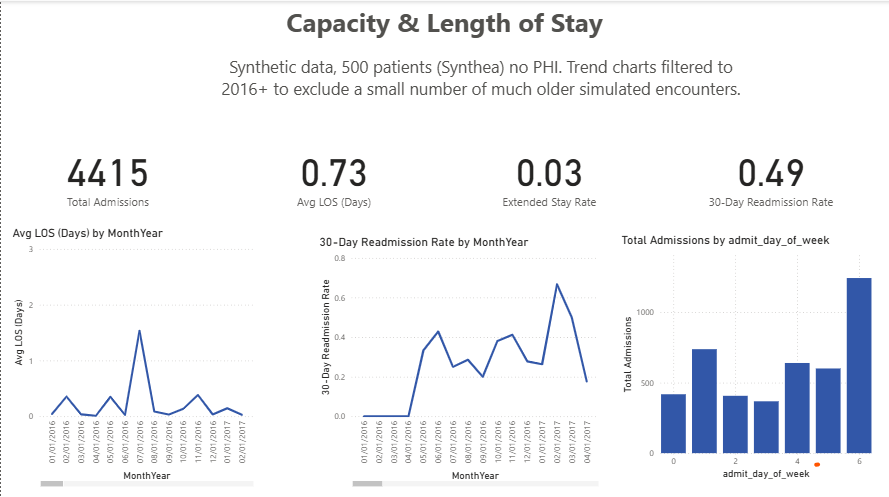

What the dashboard file says about the page in this screenshot:
{"tool":"powerbi","page":{"name":"Capacity ","canvas":[1280,720],"ordinal":1},"visuals":[{"type":"card","fields":{"Values":["fact_encounters.Total Admissions"]},"box":[11.5,191.5,285.1,118.1],"z":0},{"type":"card","fields":{"Values":["fact_encounters.Avg LOS (Days)"]},"box":[354.2,191.5,250.6,118.1],"z":1000},{"type":"card","fields":{"Values":["fact_encounters.Extended Stay Rate"]},"box":[659.5,191.5,260.6,118.1],"z":2000},{"type":"card","fields":{"Values":["fact_encounters.30-Day Readmission Rate"]},"box":[959,191.5,299.5,118.1],"z":3000},{"type":"lineChart","fields":{"Category":["dim_date.MonthYear.Variation.Date Hierarchy.Year"],"Y":["fact_encounters.Avg LOS (Days)"]},"box":[11.5,324,357.1,380.2],"z":4000},{"type":"lineChart","fields":{"Category":["dim_date.MonthYear"],"Y":["fact_encounters.30-Day Readmission Rate"]},"box":[453.6,337,411.8,367.2],"z":5000},{"type":"clusteredColumnChart","fields":{"Y":["fact_encounters.Total Admissions"],"Category":["fact_encounters.admit_day_of_week"]},"box":[888.5,334.1,370.1,360],"z":6000},{"type":"textbox","box":[4.3,0,1268.6,72],"z":7000},{"type":"textbox","box":[296.6,72,789.1,74.9],"z":8000}]}

Visuals, with their boxes in screenshot pixels (x1, y1, x2, y2), scaled from the page's 1280x720 canvas onto the 889x497 screenshot:
card - fact_encounters.Total Admissions: bbox=[8, 132, 206, 214]
card - fact_encounters.Avg LOS (Days): bbox=[246, 132, 420, 214]
card - fact_encounters.Extended Stay Rate: bbox=[458, 132, 639, 214]
card - fact_encounters.30-Day Readmission Rate: bbox=[666, 132, 874, 214]
lineChart - dim_date.MonthYear.Variation.Date Hierarchy.Year x fact_encounters.Avg LOS (Days): bbox=[8, 224, 256, 486]
lineChart - dim_date.MonthYear x fact_encounters.30-Day Readmission Rate: bbox=[315, 233, 601, 486]
clusteredColumnChart - fact_encounters.Total Admissions x fact_encounters.admit_day_of_week: bbox=[617, 231, 874, 479]
textbox: bbox=[3, 0, 884, 50]
textbox: bbox=[206, 50, 754, 101]
